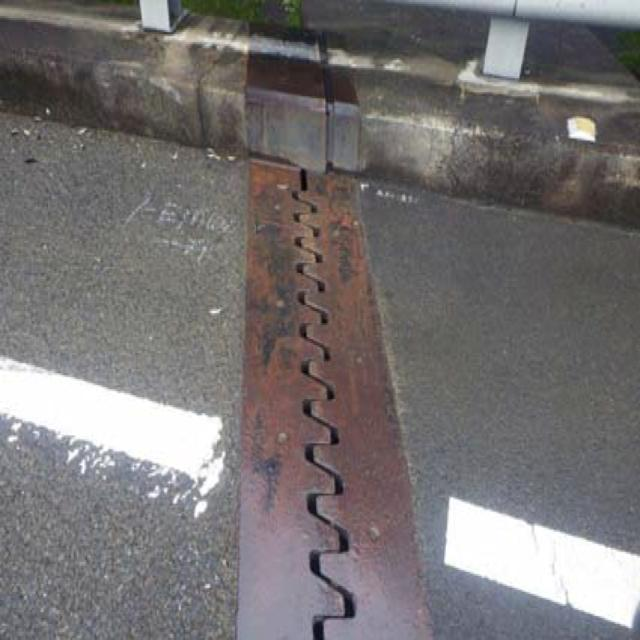corrosion: (250, 165, 415, 640)
